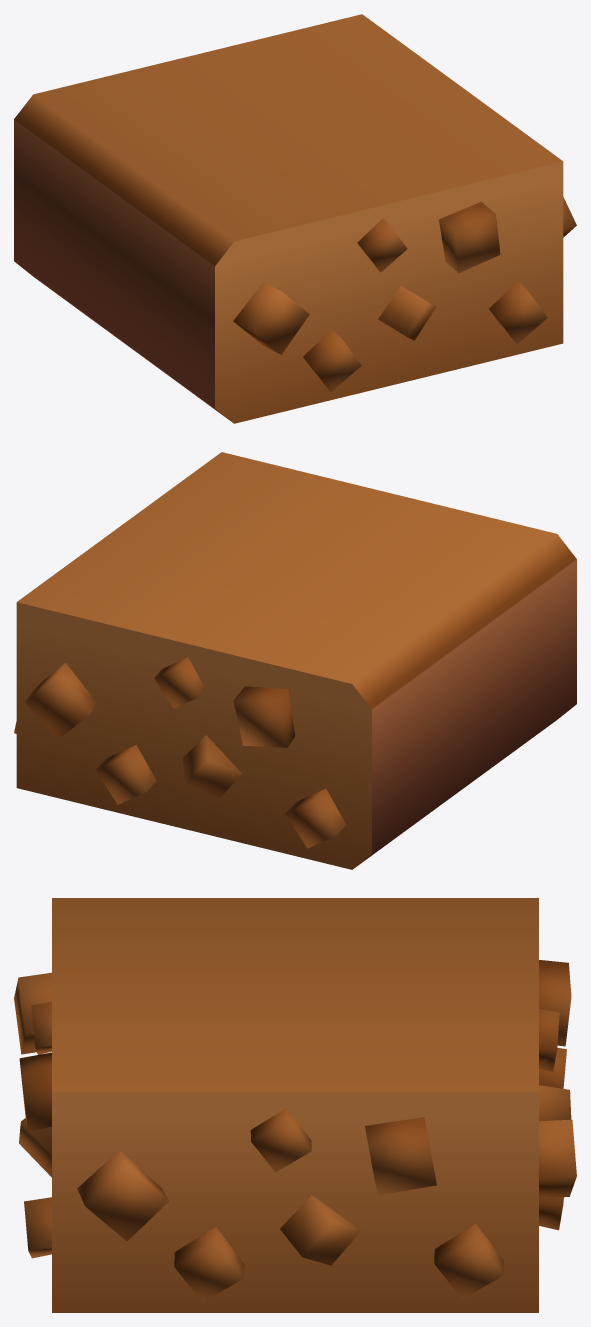
The model's file is m_Brownie04_Slice02.fbx.
The picture shows the model from 3 angles, top to bottom: view 1: azimuth 30°, elevation 25°; view 2: azimuth 150°, elevation 25°; view 3: azimuth 270°, elevation 25°; orthographic projection. The views are drawn at different scales.
Visible parts, largest first — view 1: m_Brownie04_Slice02; view 2: m_Brownie04_Slice02; view 3: m_Brownie04_Slice02.
Boxes of the visible parts, x1=… form: m_Brownie04_Slice02: x1=14, y1=14, x2=576, y2=423; m_Brownie04_Slice02: x1=14, y1=452, x2=576, y2=869; m_Brownie04_Slice02: x1=14, y1=898, x2=576, y2=1312.
Bounding box in the file's own units: 10.78 × 5 × 11.57.
